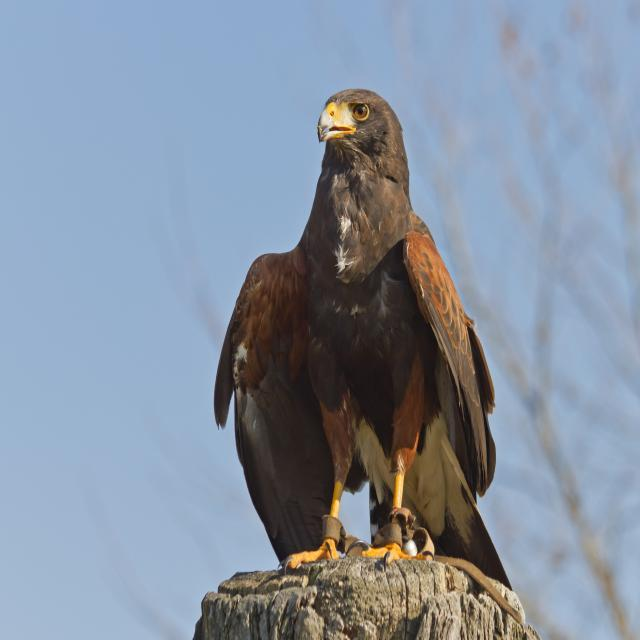bird: (204, 84, 533, 594)
